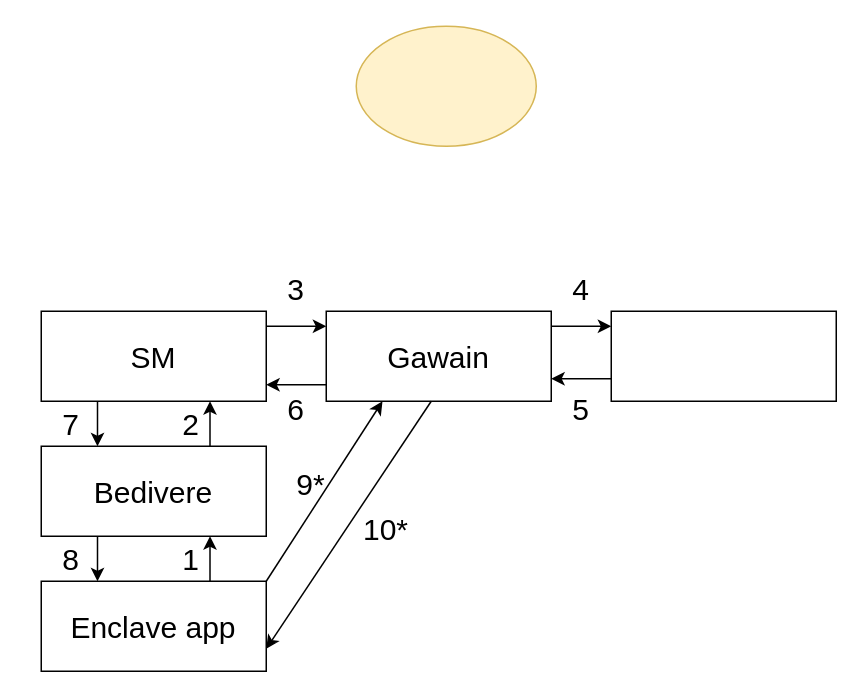
Image size: 863x698. Some labels were removed from this diagram. The shapes that lost their labels are listed below. From the top down, each one's box as (x1, y1, x2, y2) in pixels, then its label:
(355, 25, 536, 146): [废弃]
(610, 310, 836, 401): Remote Verifier
